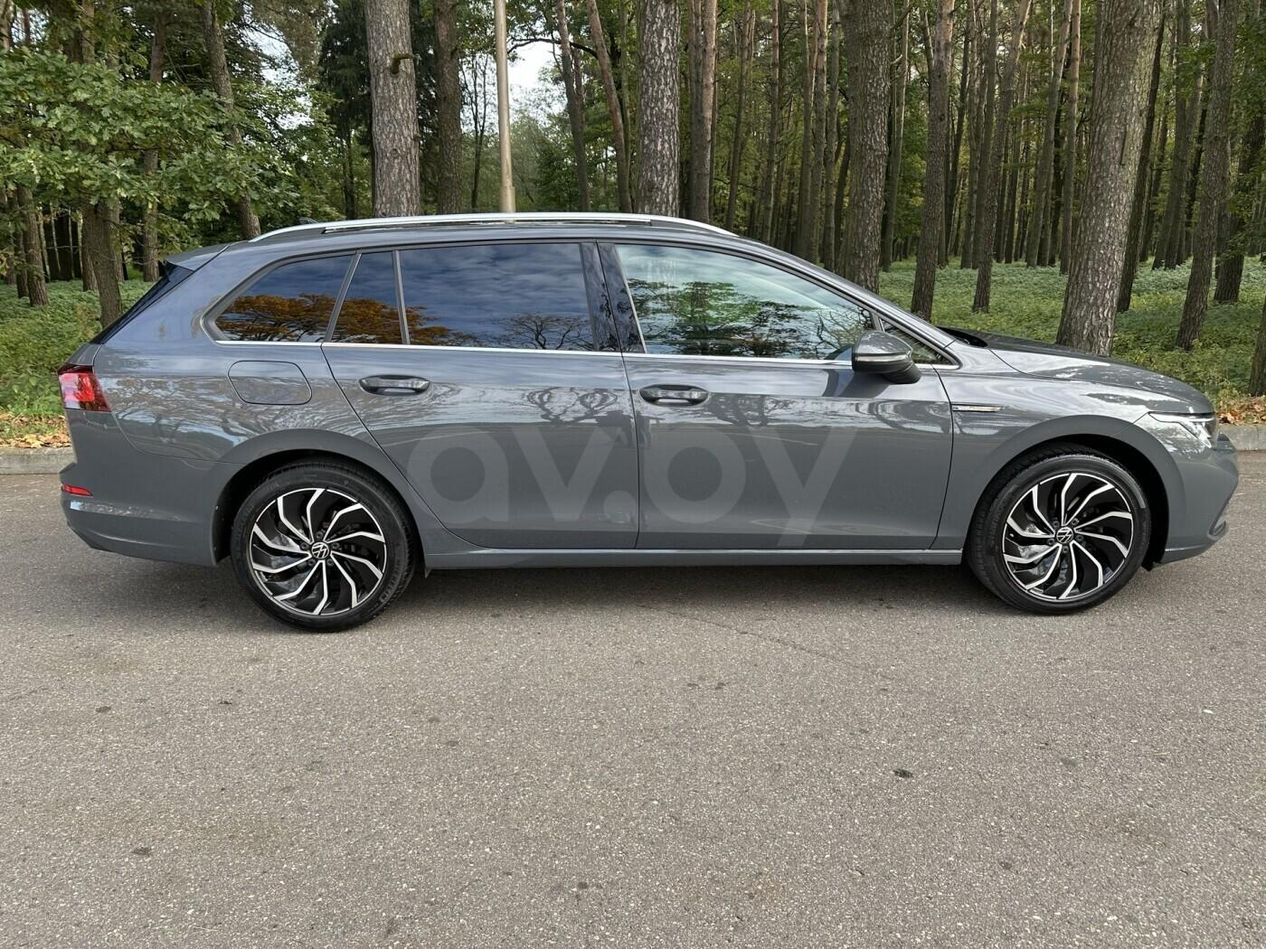Golf_2019: (51, 201, 1242, 636)
